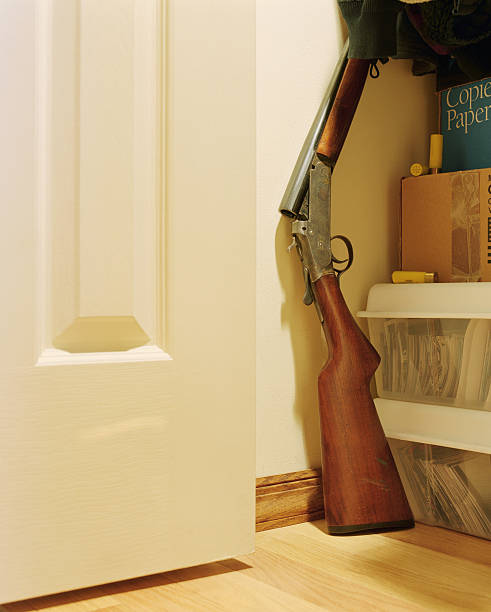shotgun: (280, 9, 419, 536)
